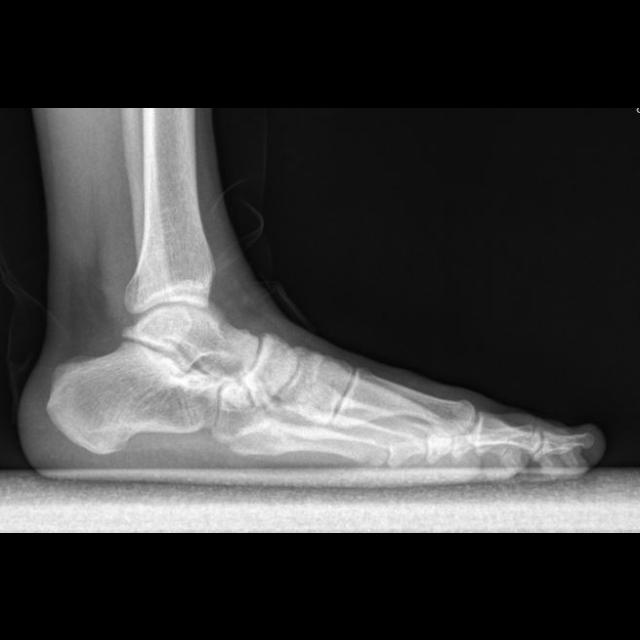a: (44, 342, 220, 451)
b: (239, 331, 298, 404)
c: (335, 368, 477, 435)
